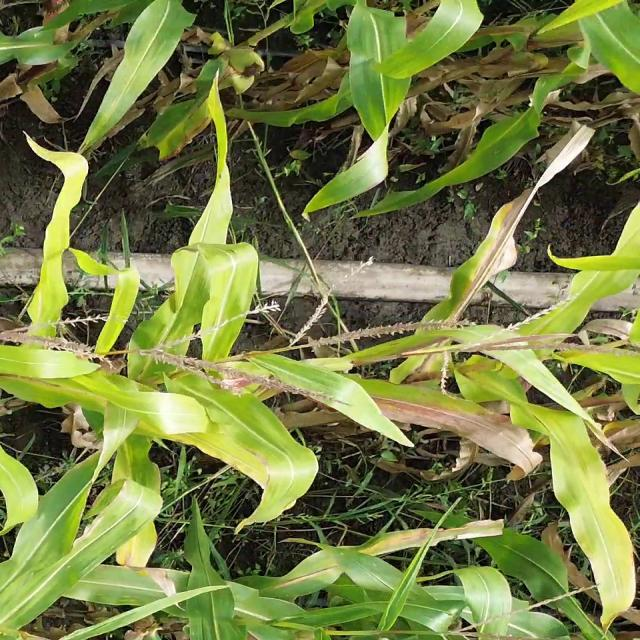northern-leaf-blight: (340, 388, 558, 488), (464, 211, 524, 298), (0, 362, 109, 407), (371, 521, 516, 552), (126, 556, 189, 603), (66, 512, 120, 548)
